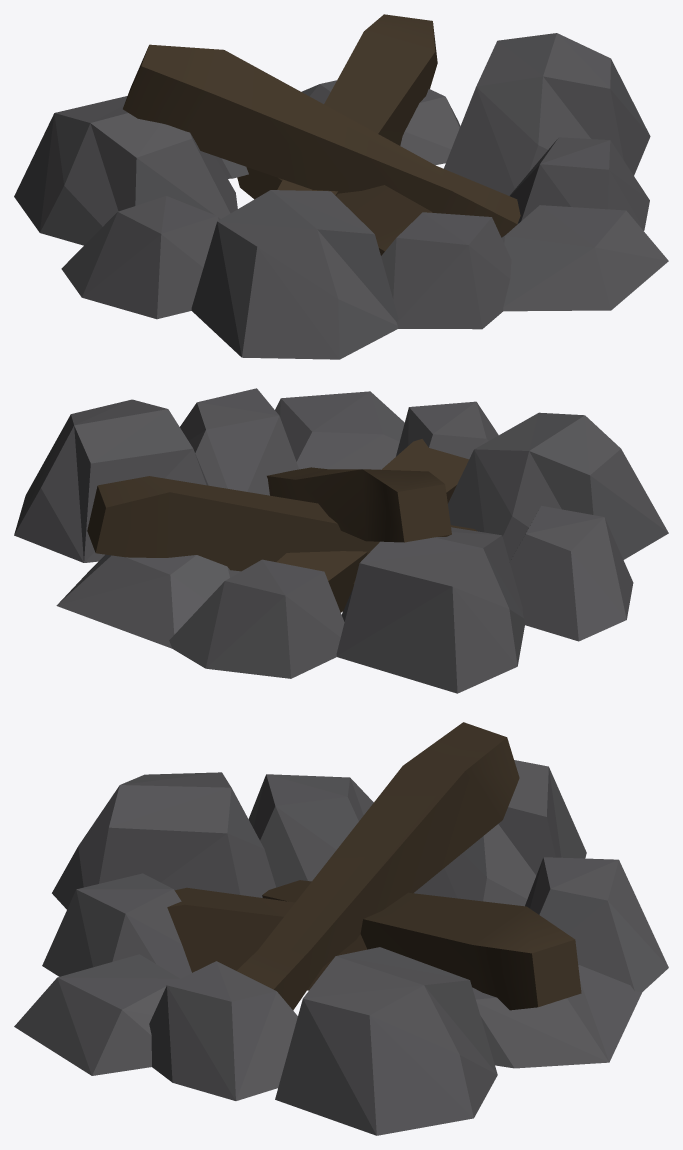
The model's file is SM_Prop_Campfire_01.glb.
3 renders of one model, top to bottom at view 1: azimuth 30°, elevation 25°; view 2: azimuth 150°, elevation 25°; view 3: azimuth 270°, elevation 25°, orthographic. The views are drawn at different scales.
Visible parts, largest first — view 1: SM_Prop_Campfire_01; view 2: SM_Prop_Campfire_01; view 3: SM_Prop_Campfire_01.
Boxes of the visible parts, x1,y1,x2,y2 form: SM_Prop_Campfire_01: (14, 14, 668, 359); SM_Prop_Campfire_01: (14, 388, 668, 693); SM_Prop_Campfire_01: (14, 722, 668, 1135).
Bounding box in the file's own units: 0.00922 × 0.00274 × 0.00821.
